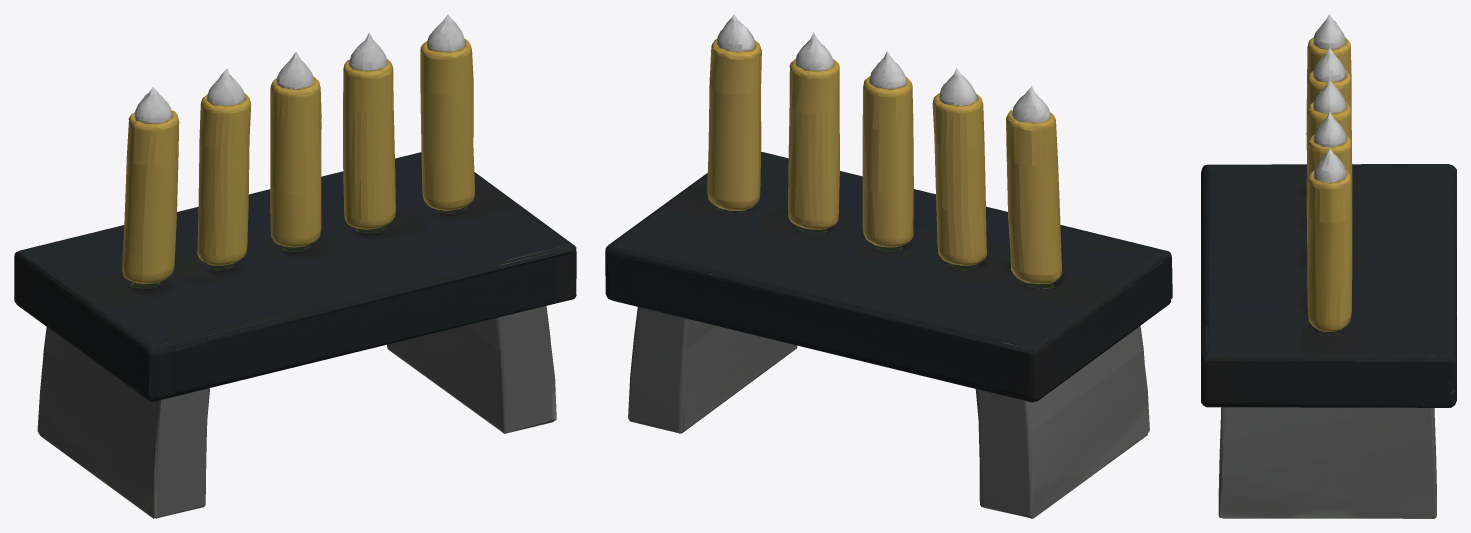
Rendered from ammunition-workshop.glb.
3 views of the same model, side by side, from view 1: azimuth 30°, elevation 25°; view 2: azimuth 150°, elevation 25°; view 3: azimuth 270°, elevation 25° (orthographic). The views are drawn at different scales.
Bounding box in the file's own units: 1 × 0.8398 × 0.5547.
1 material, 1 textured.
